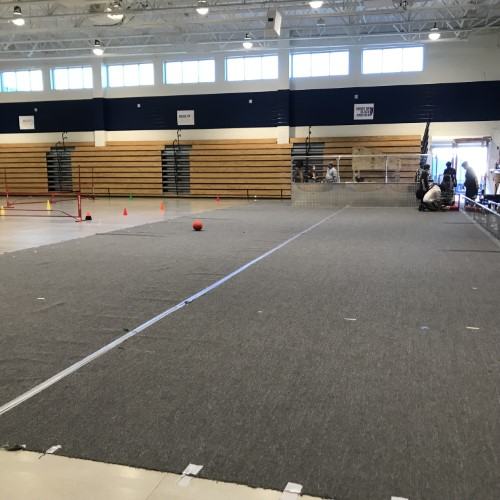red: (192, 220, 202, 231)
